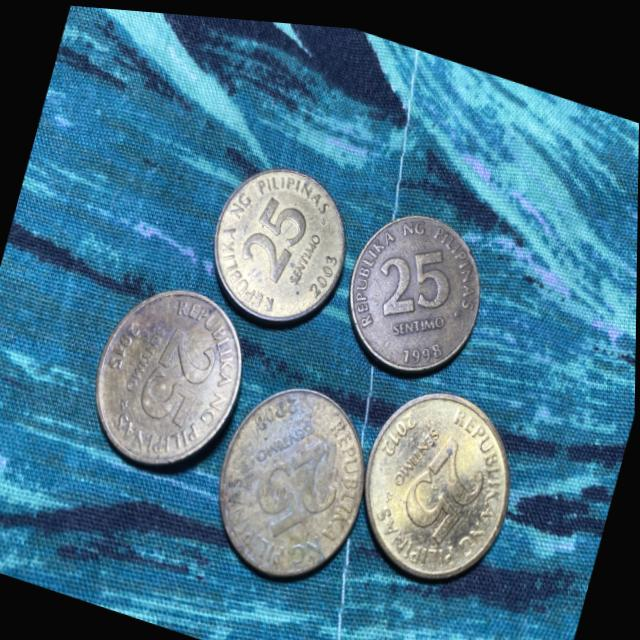25Cent_Old_Front: (246, 423, 351, 546), (399, 424, 494, 543), (132, 315, 221, 433), (369, 222, 461, 325), (235, 180, 314, 282)
